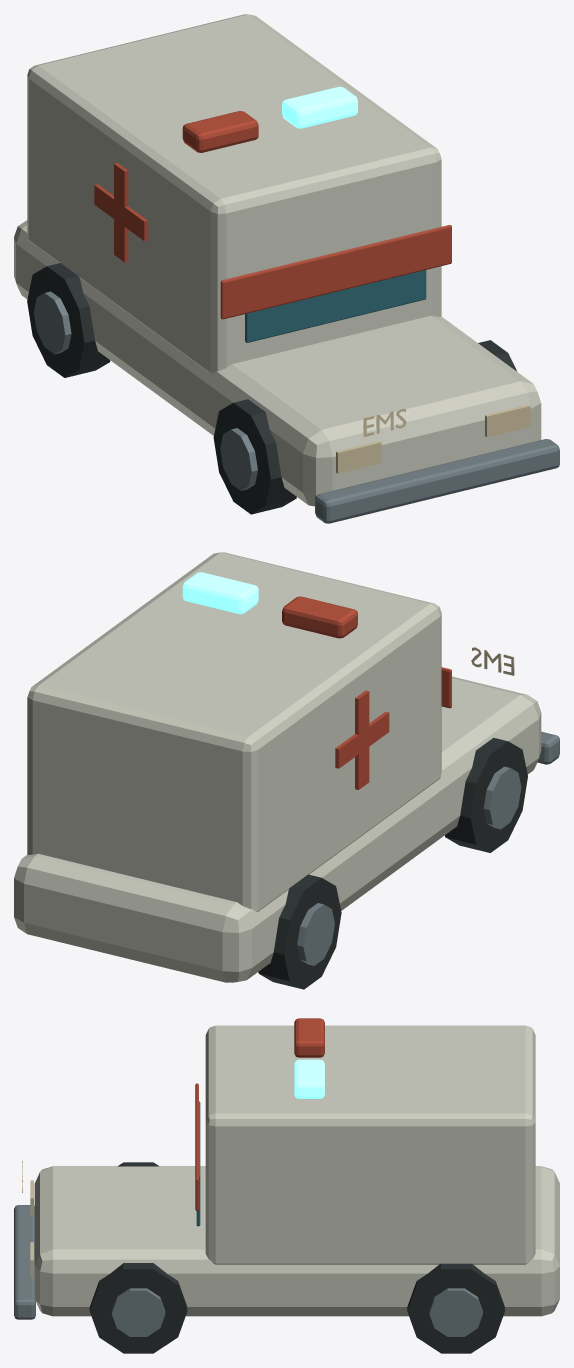
Rendered from ambulance.glb.
3 views of the same model, one above another, from view 1: azimuth 30°, elevation 25°; view 2: azimuth 150°, elevation 25°; view 3: azimuth 270°, elevation 25° (orthographic). The views are drawn at different scales.
Parts seen in each view (by area): view 1: ambulance.001; view 2: ambulance.001; view 3: ambulance.001.
Boxes of the visible parts, <box> form: ambulance.001: <box>14,14,559,523</box>; ambulance.001: <box>14,552,559,989</box>; ambulance.001: <box>14,1018,559,1353</box>.
Size of the model in its own units: 2.17 by 2.26 by 4.47.
